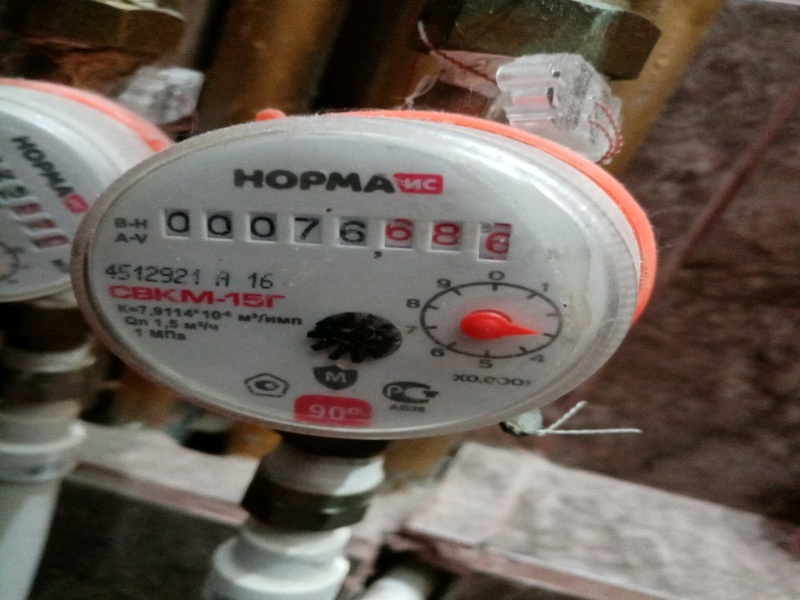meter: (166, 201, 514, 263)
